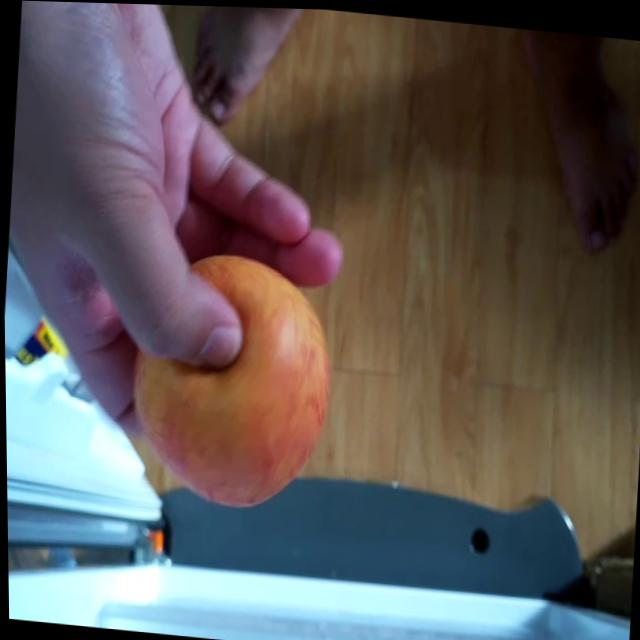apple: (125, 238, 341, 512)
